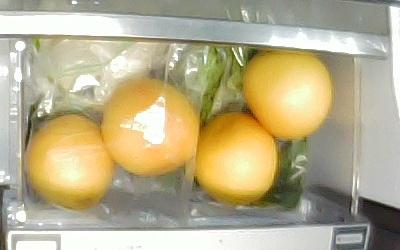grapefruit: (244, 51, 333, 142), (192, 111, 276, 203)
grapefruit_vinyl: (102, 79, 198, 176), (25, 115, 113, 209)
